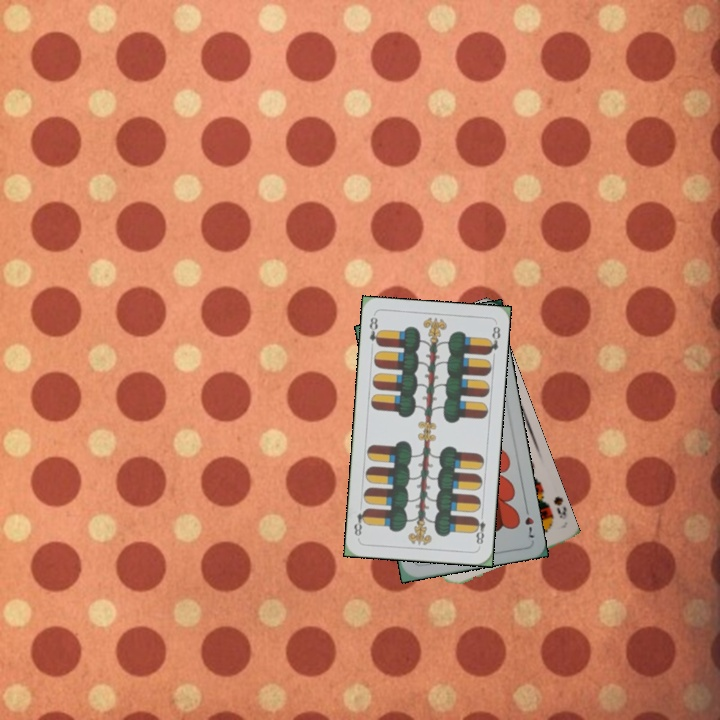E8: (470, 509, 488, 547), (365, 313, 383, 348)
H7: (521, 502, 536, 541)
S8: (549, 492, 569, 522)
